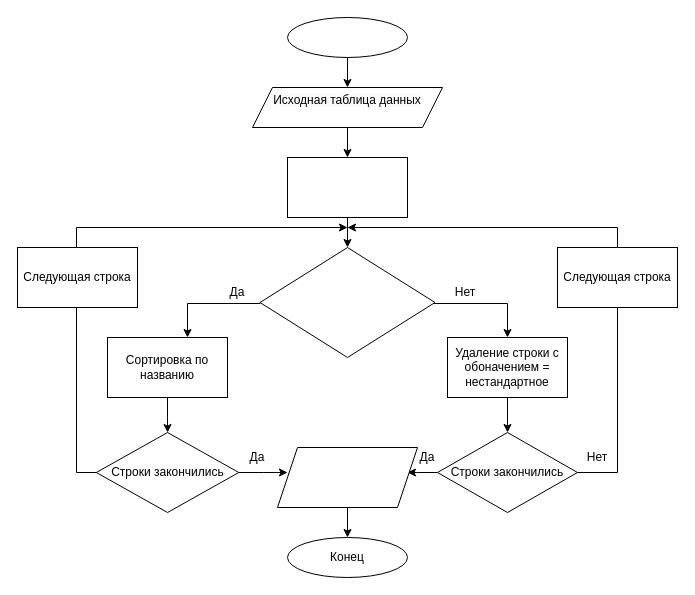
Some shapes in this 695 by 595 pixel diagram are drawn without their labels. The shapes that lost their labels are listed below. From the top down, each one's centre as x and y in pixels, then its label:
(x=347, y=37): Начало
(x=347, y=187): Поиск столбца "обозначение"
(x=347, y=302): Обозначение=стандартное
(x=347, y=477): Итоговая таблица данных
